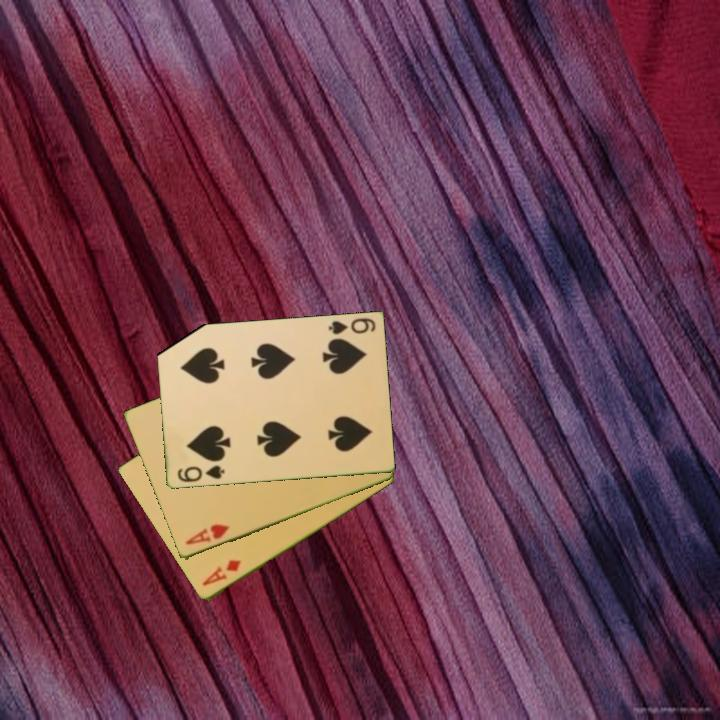6s: (174, 462, 227, 485), (325, 315, 378, 338)
Ad: (198, 556, 244, 589)
Ah: (182, 521, 232, 548)
